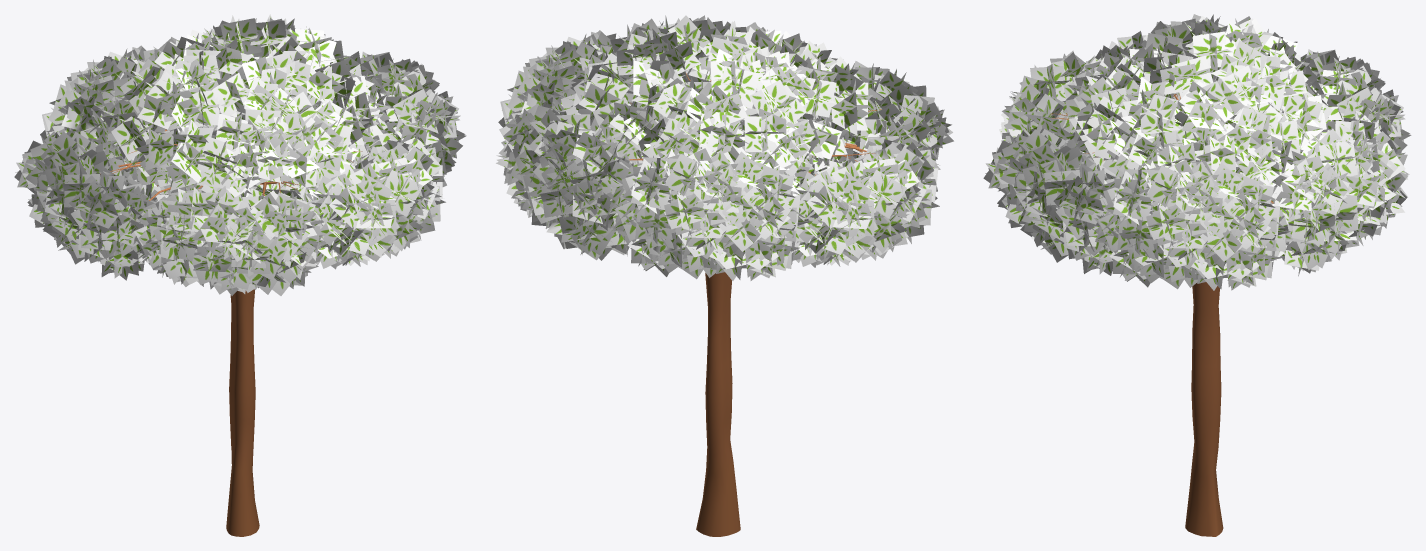
File: tree2_1.fbx
3 renders of one model, left to right at view 1: azimuth 30°, elevation 25°; view 2: azimuth 150°, elevation 25°; view 3: azimuth 270°, elevation 25°, orthographic. The views are drawn at different scales.
Visible parts, largest first — view 1: tree2_1; view 2: tree2_1; view 3: tree2_1.
Boxes of the visible parts, x1,y1,x2,y2 form: tree2_1: (14, 14, 466, 536); tree2_1: (496, 15, 953, 536); tree2_1: (983, 14, 1411, 536).
Size of the model in its own units: 712 by 826 by 650.
